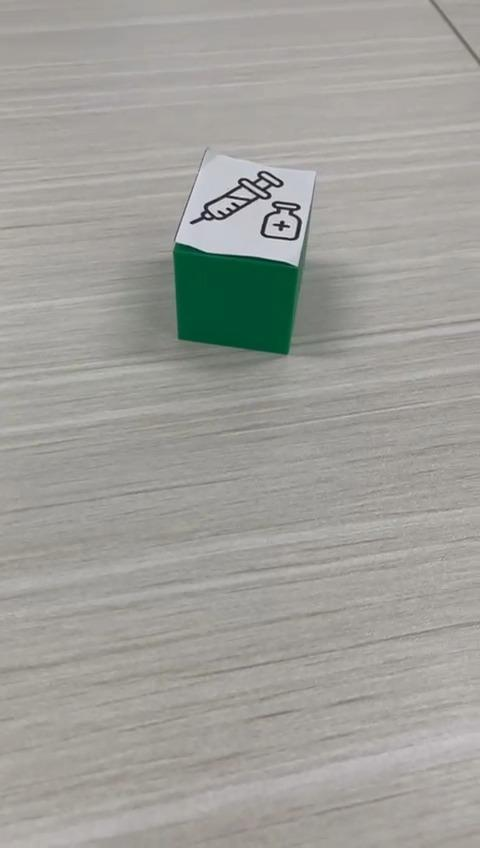antiseptic cream: (171, 146, 317, 355)
